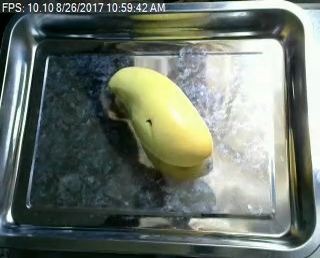Mango: (103, 60, 222, 168)
